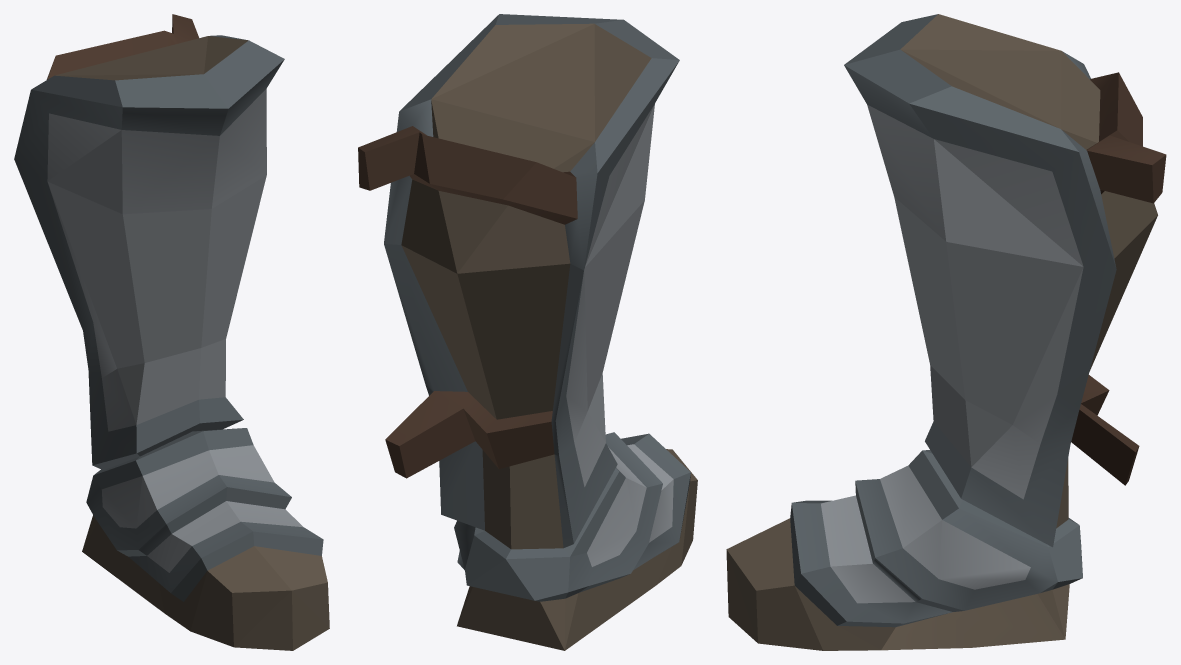
Rendered from Chr_LegLeft_Female_16_Static.fbx.
3 renders of one model, left to right at view 1: azimuth 30°, elevation 25°; view 2: azimuth 150°, elevation 25°; view 3: azimuth 270°, elevation 25°, orthographic. The views are drawn at different scales.
Visible parts, largest first — view 1: Chr_LegLeft_Female_16_Static; view 2: Chr_LegLeft_Female_16_Static; view 3: Chr_LegLeft_Female_16_Static.
Boxes of the visible parts, bbox=[...] form: Chr_LegLeft_Female_16_Static: bbox=[14, 14, 329, 650]; Chr_LegLeft_Female_16_Static: bbox=[358, 14, 697, 650]; Chr_LegLeft_Female_16_Static: bbox=[726, 14, 1166, 650].
Bounding box in the file's own units: 0.1582 × 0.4043 × 0.2867.
